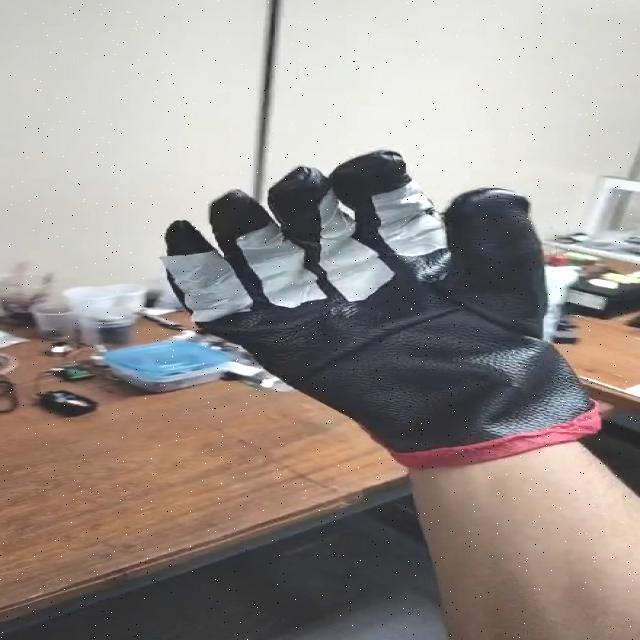Gloves: (172, 147, 616, 456)
